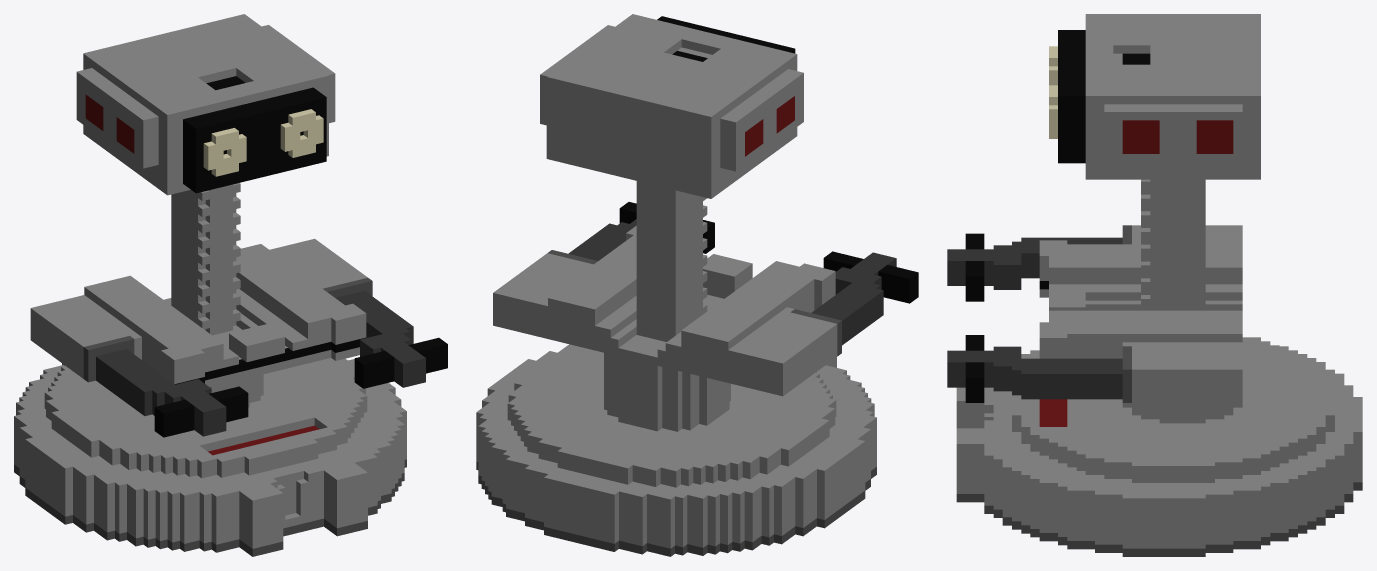
Rendered from RobotCañon.fbx.
The picture shows the model from 3 angles, left to right: view 1: azimuth 30°, elevation 25°; view 2: azimuth 150°, elevation 25°; view 3: azimuth 270°, elevation 25°; orthographic projection. The views are drawn at different scales.
Parts seen in each view (by area): view 1: RobotCañon; view 2: RobotCañon; view 3: RobotCañon.
Boxes of the visible parts, <box> form: RobotCañon: <box>14,14,447,556</box>; RobotCañon: <box>476,14,918,556</box>; RobotCañon: <box>947,14,1362,556</box>.
Bounding box in the file's own units: 430 × 500 × 450.
